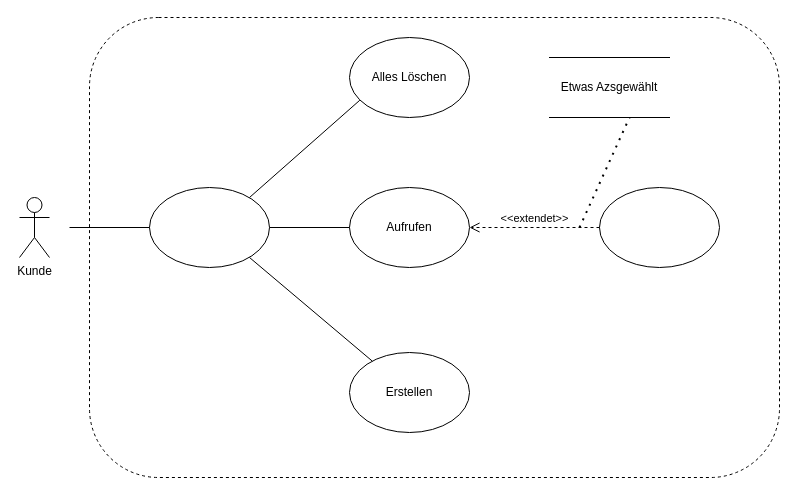
Some shapes in this 797 by 495 pixel diagram are drawn without their labels. Here are the shapes that lost their labels. From the top down, the centre of each, then its label:
[209,227]: Anmelden
[659,227]: Einzeln Löschen
